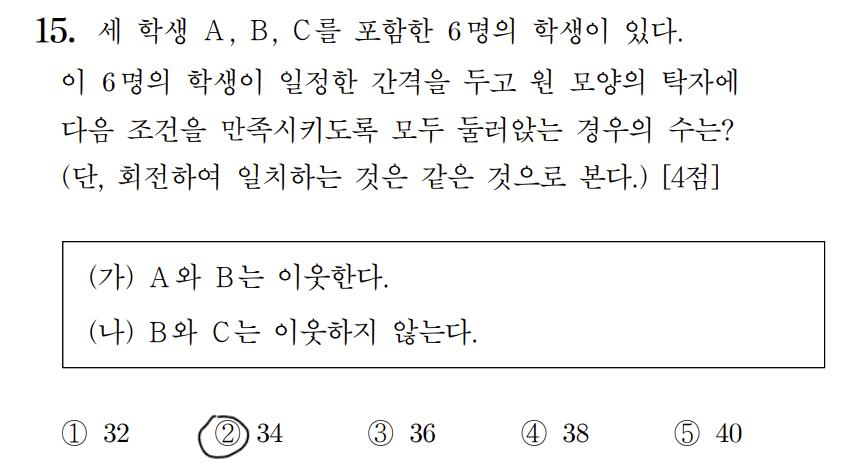1: (196, 413, 251, 459)
paper: (672, 417, 702, 448), (519, 419, 549, 450), (366, 418, 396, 449), (213, 420, 243, 451), (59, 418, 89, 449)
